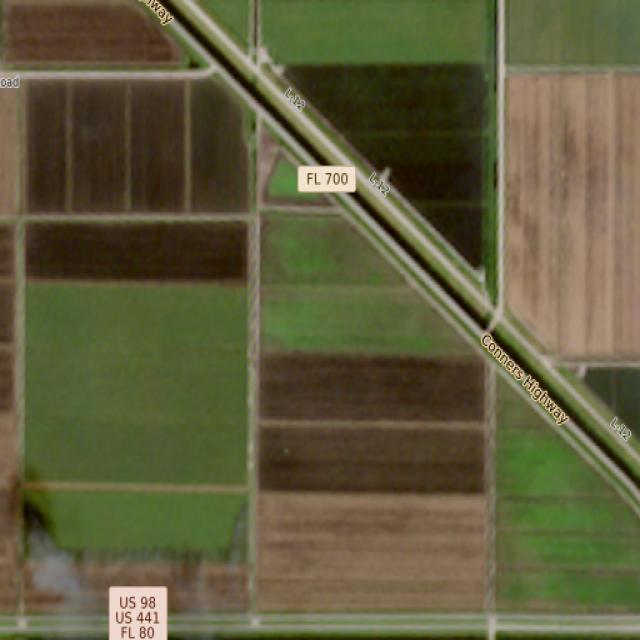wildfire: (4, 464, 100, 610)
